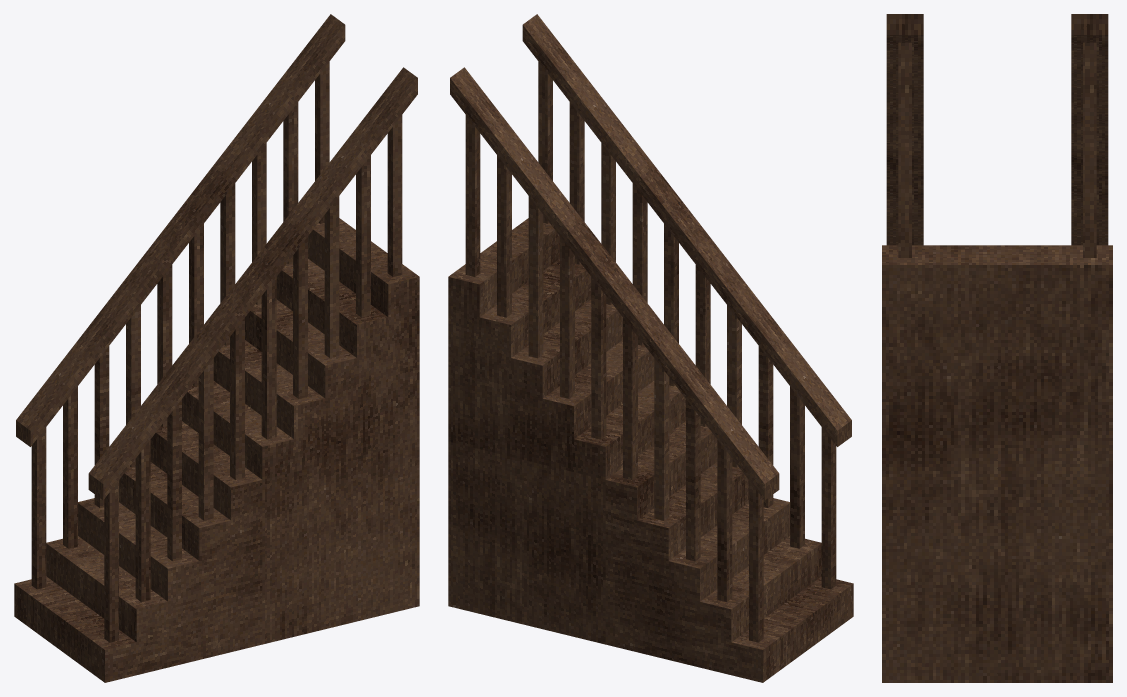
File: stair_medium_02.glb
The picture shows the model from 3 angles, left to right: view 1: azimuth 30°, elevation 25°; view 2: azimuth 150°, elevation 25°; view 3: azimuth 270°, elevation 25°; orthographic projection. The views are drawn at different scales.
Parts seen in each view (by area): view 1: stair_medium_022, railing_stair_02_L, railing_stair_02_R_001; view 2: stair_medium_022, railing_stair_02_R_001, railing_stair_02_L; view 3: stair_medium_022, railing_stair_02_L, railing_stair_02_R_001.
Part boxes in pixels (x1=…): stair_medium_022: x1=14, y1=218, x2=419, y2=682; railing_stair_02_L: x1=88, y1=67, x2=417, y2=642; railing_stair_02_R_001: x1=16, y1=14, x2=345, y2=589; stair_medium_022: x1=448, y1=218, x2=853, y2=682; railing_stair_02_R_001: x1=450, y1=67, x2=779, y2=642; railing_stair_02_L: x1=522, y1=14, x2=851, y2=589; stair_medium_022: x1=882, y1=245, x2=1112, y2=682; railing_stair_02_L: x1=886, y1=14, x2=923, y2=257; railing_stair_02_R_001: x1=1071, y1=14, x2=1108, y2=257.
Size of the model in its own units: 2 by 3.2 by 1.
Materials: 3 (3 with a texture image).
